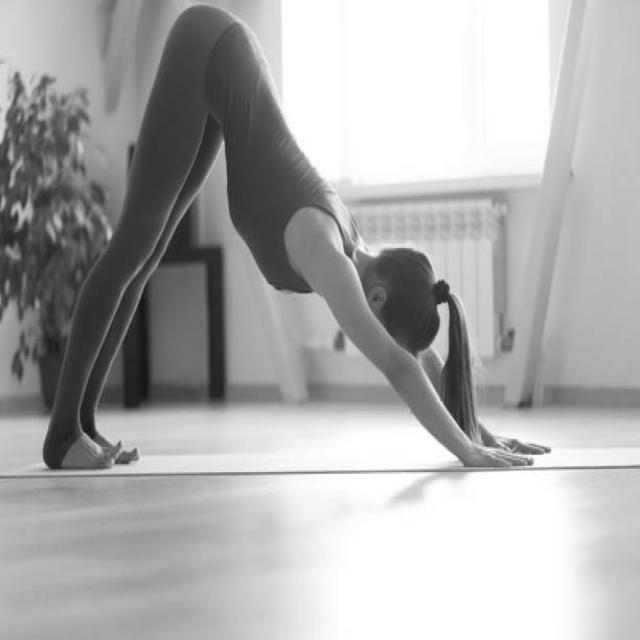Downward-Facing_Dog: (35, 9, 567, 469)
